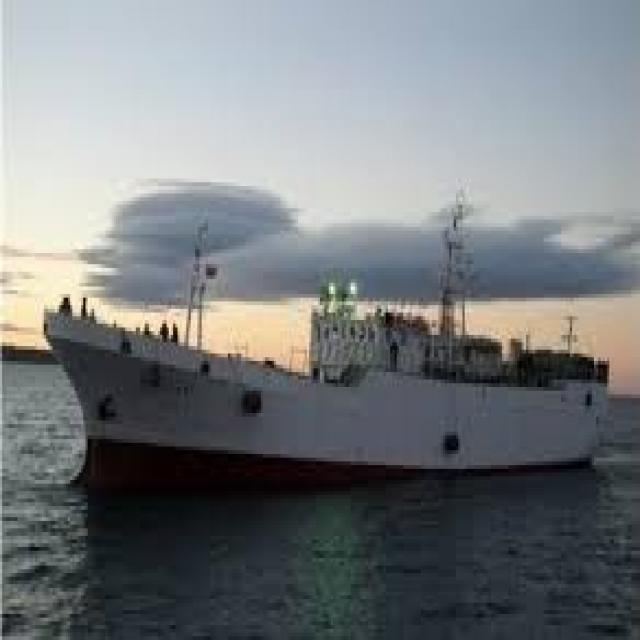Ship: (38, 176, 617, 493)
